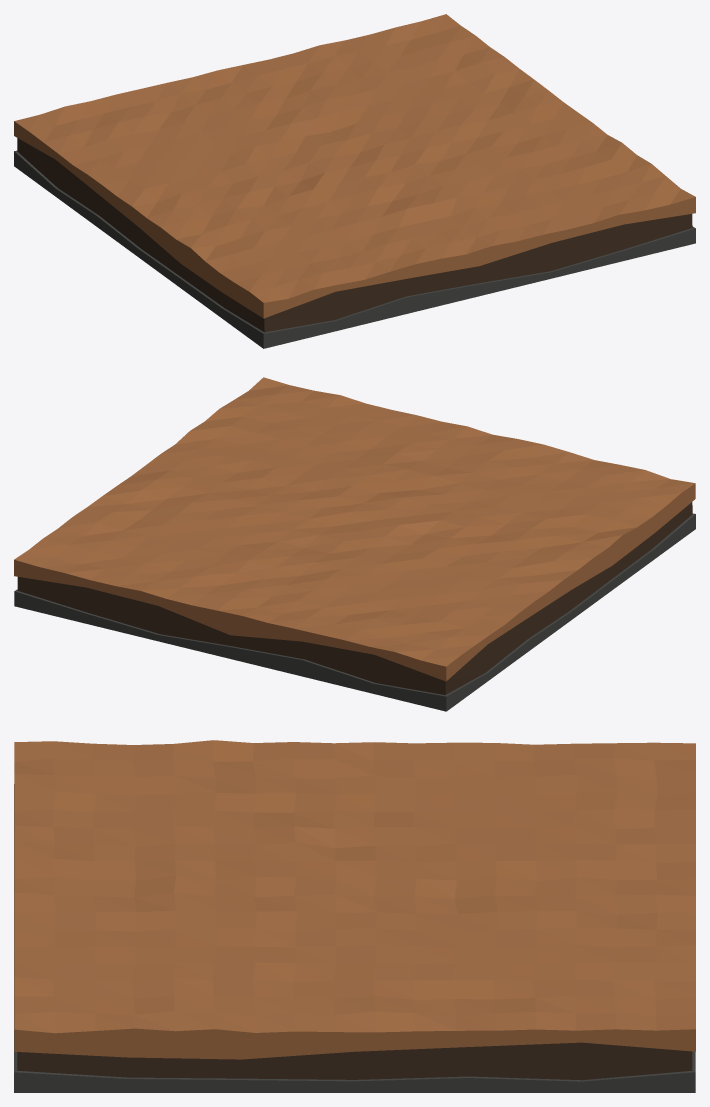
3 views of the same model, one above another, from view 1: azimuth 30°, elevation 25°; view 2: azimuth 150°, elevation 25°; view 3: azimuth 270°, elevation 25° (orthographic). The views are drawn at different scales.
Visible parts, largest first — view 1: Base; view 2: Base; view 3: Base.
Boxes of the visible parts, left/top/right/bottom form: Base: left=14, top=14, right=695, bottom=348; Base: left=14, top=377, right=695, bottom=711; Base: left=14, top=740, right=695, bottom=1092.
Bounding box in the file's own units: 10004 × 1050 × 10004.
